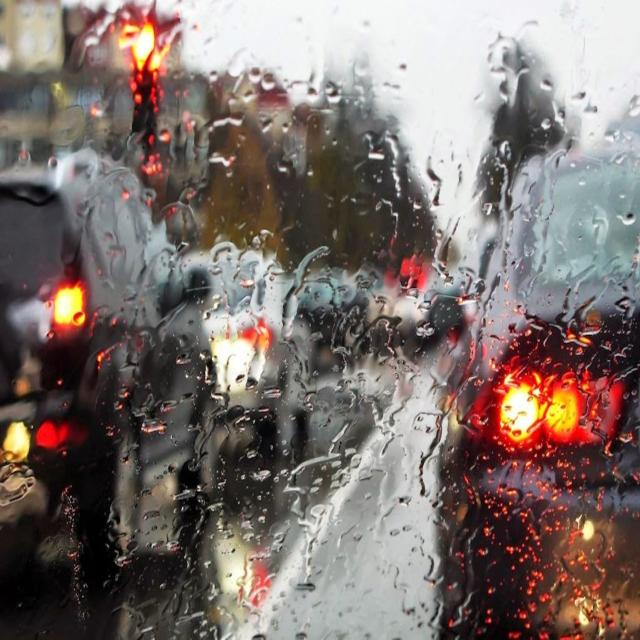car: (3, 147, 228, 584), (440, 139, 633, 633), (207, 253, 321, 448)
